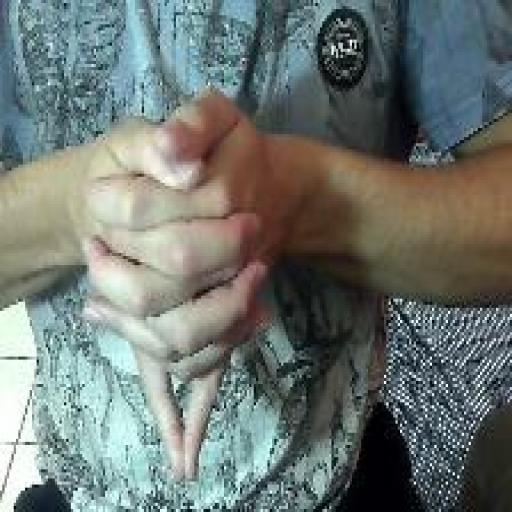Tatsu -dragon-: (80, 81, 274, 489)
